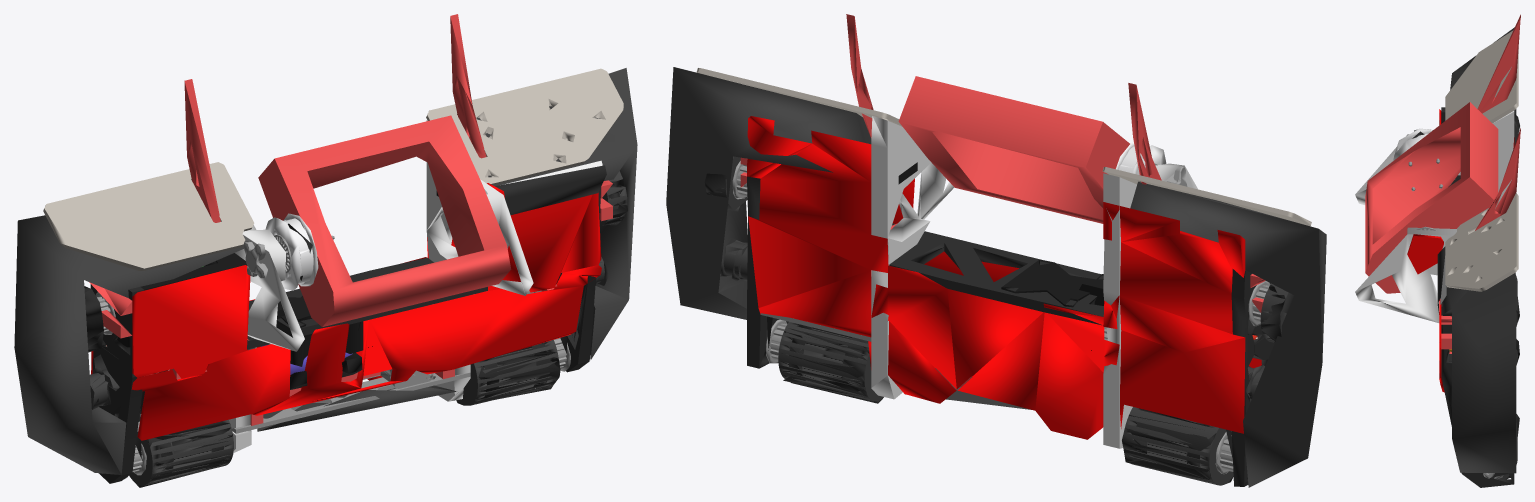
Rendered from model-lite.lod1.glb.
3 renders of one model, left to right at view 1: azimuth 30°, elevation 25°; view 2: azimuth 150°, elevation 25°; view 3: azimuth 270°, elevation 25°, orthographic. The views are drawn at different scales.
Visible parts, largest first — view 1: Body1:147, Body1:22, Body1:13, Body2:47, Body1:15, Body1:148, Body2:11, Body1:4, Body1:1, Body1:11, Body1; view 2: Body1:147, Body1:22, Body1:13, Body1:148, Body1:15, Body2:11, Body2:47, Body1:4, Body1:1, Body1, Body1:11; view 3: Body1:13, Body1:22, Body2:47, Body1:148, Body1:15, Body1:147, Body1:11, Body2:11, Body1:4.
Boxes of the visible parts, x1=… form: Body1:147: x1=91, y1=183, x2=601, y2=440; Body1:22: x1=14, y1=68, x2=637, y2=485; Body1:13: x1=89, y1=14, x2=612, y2=425; Body2:47: x1=43, y1=68, x2=623, y2=270; Body1:15: x1=90, y1=165, x2=606, y2=483; Body1:148: x1=229, y1=120, x2=533, y2=452; Body2:11: x1=84, y1=179, x2=627, y2=487; Body1:4: x1=95, y1=189, x2=570, y2=478; Body1:1: x1=117, y1=191, x2=438, y2=389; Body1:11: x1=265, y1=213, x2=318, y2=290; Body1: x1=89, y1=257, x2=609, y2=409; Body1:147: x1=747, y1=116, x2=1261, y2=439; Body1:22: x1=666, y1=67, x2=1326, y2=487; Body1:13: x1=740, y1=14, x2=1265, y2=387; Body1:148: x1=871, y1=116, x2=1197, y2=448; Body1:15: x1=747, y1=176, x2=1274, y2=486; Body2:11: x1=704, y1=173, x2=1285, y2=484; Body2:47: x1=696, y1=68, x2=1311, y2=226; Body1:4: x1=732, y1=161, x2=1270, y2=474; Body1:1: x1=898, y1=162, x2=1248, y2=331; Body1: x1=720, y1=238, x2=1264, y2=402; Body1:11: x1=1116, y1=142, x2=1166, y2=174; Body1:13: x1=1365, y1=14, x2=1520, y2=353; Body1:22: x1=1441, y1=27, x2=1517, y2=479; Body2:47: x1=1445, y1=30, x2=1518, y2=291; Body1:148: x1=1355, y1=111, x2=1514, y2=322; Body1:15: x1=1437, y1=107, x2=1514, y2=487; Body1:147: x1=1407, y1=109, x2=1514, y2=392; Body1:11: x1=1393, y1=128, x2=1455, y2=179; Body2:11: x1=1412, y1=114, x2=1519, y2=479; Body1:4: x1=1408, y1=129, x2=1503, y2=479.
Size of the model in its own units: 50.29 by 29.14 by 13.39.
